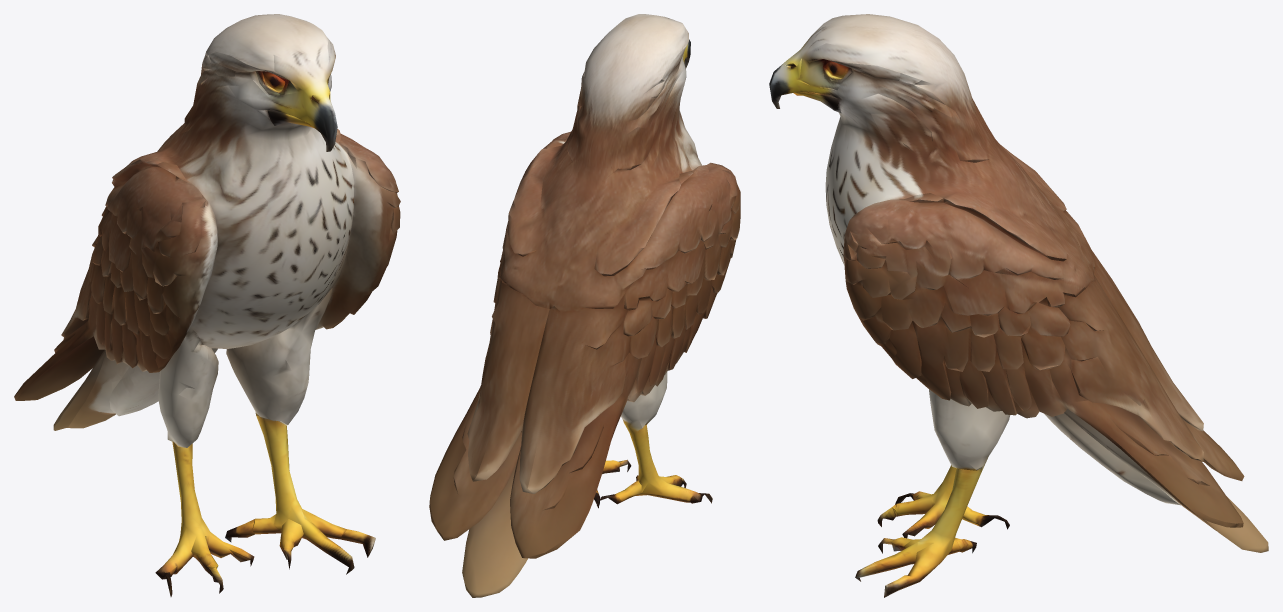
Rendered from falcon.glb.
3 views of the same model, side by side, from view 1: azimuth 30°, elevation 25°; view 2: azimuth 150°, elevation 25°; view 3: azimuth 270°, elevation 25° (orthographic). The views are drawn at different scales.
Parts seen in each view (by area): view 1: model; view 2: model; view 3: model.
Part boxes in pixels (bbox=[...]): model: bbox=[14, 14, 400, 596]; model: bbox=[429, 14, 740, 597]; model: bbox=[769, 14, 1268, 597].
Bounding box in the file's own units: 0.1974 × 0.45 × 0.383.
Materials: 1 (1 with a texture image).
